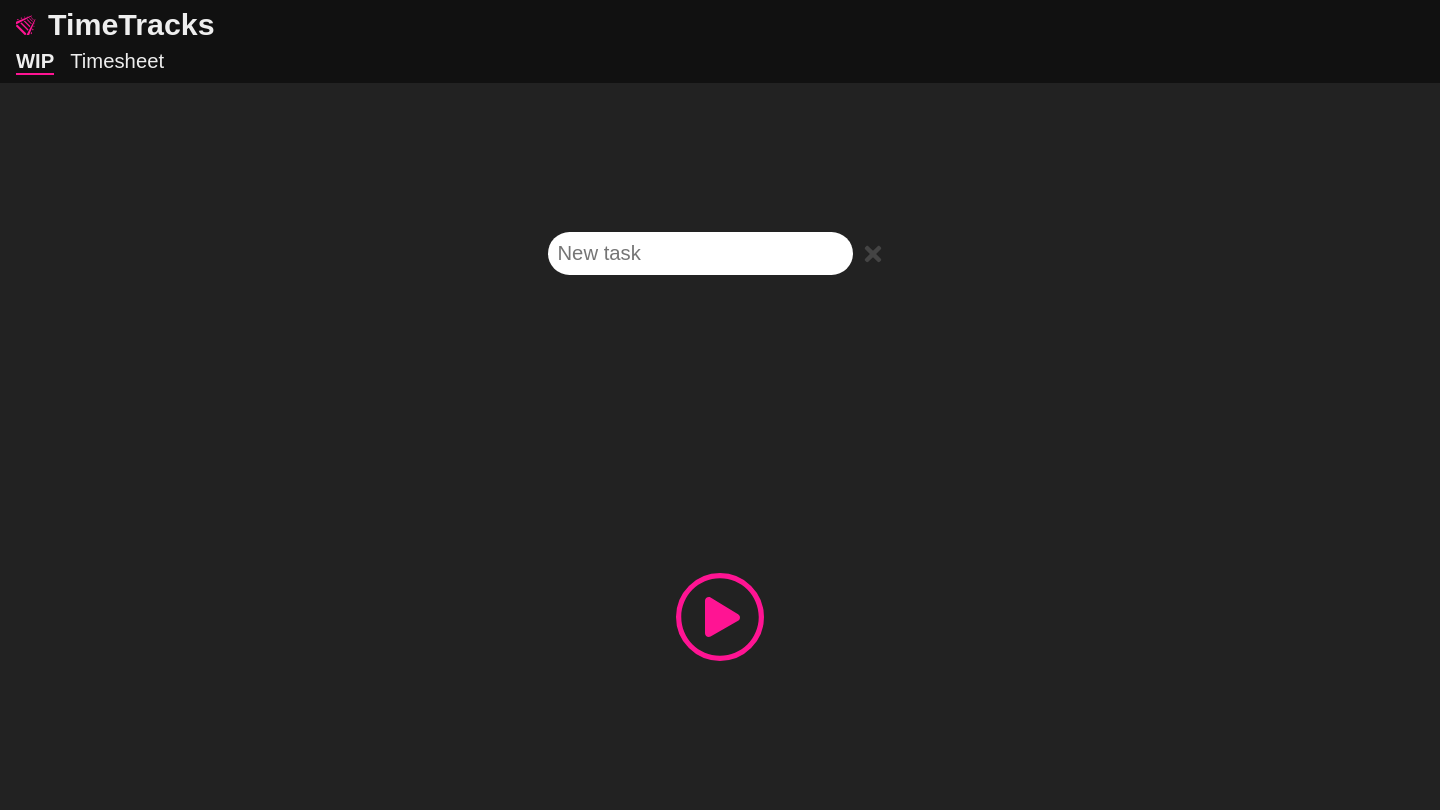
Test: after starting a task the stop button is visible
Type "My sweet task" into the field with test id "task-input". click: (700, 254)
box: [548,232,852,275]
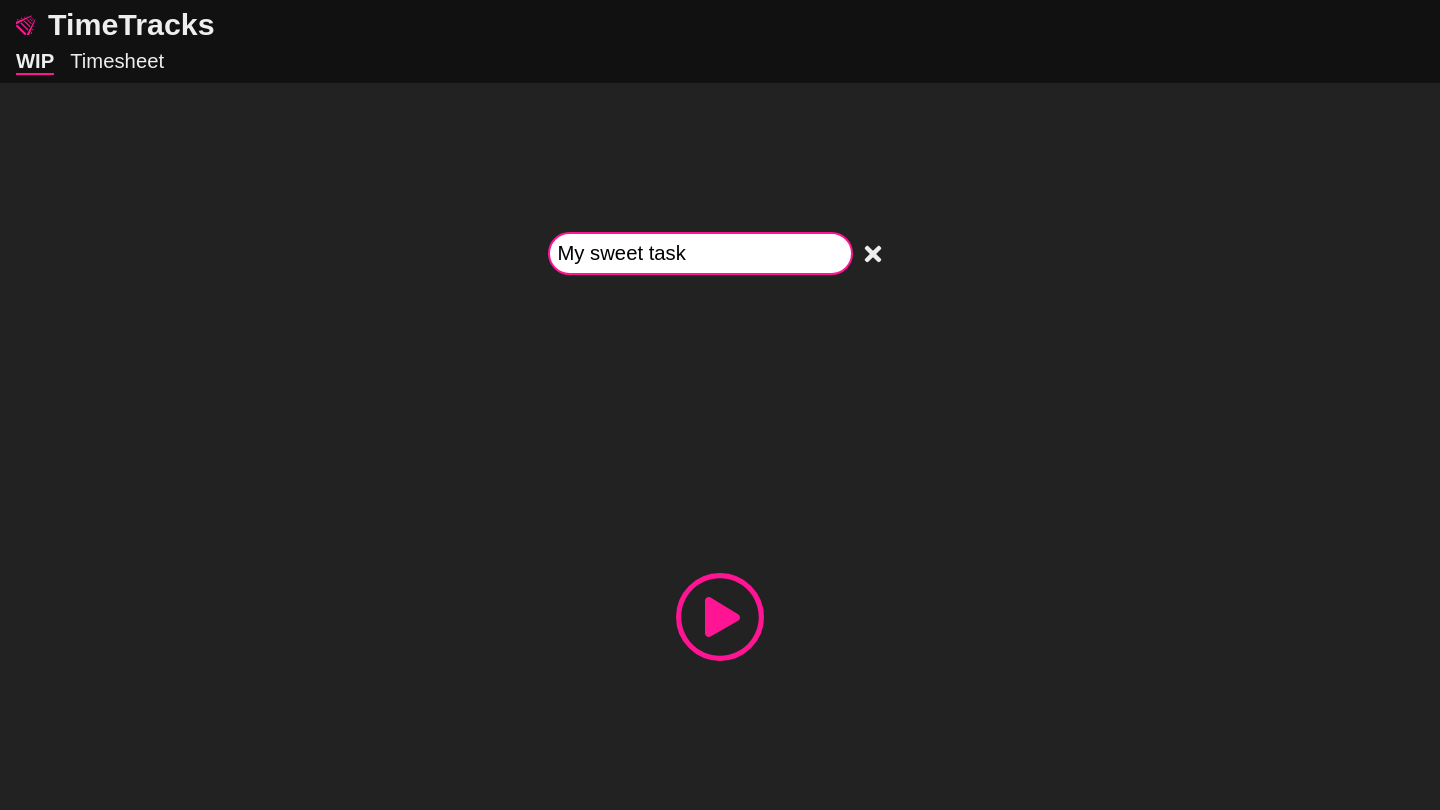
Click the button named "start". click: (720, 617)
box: [676,573,764,661]
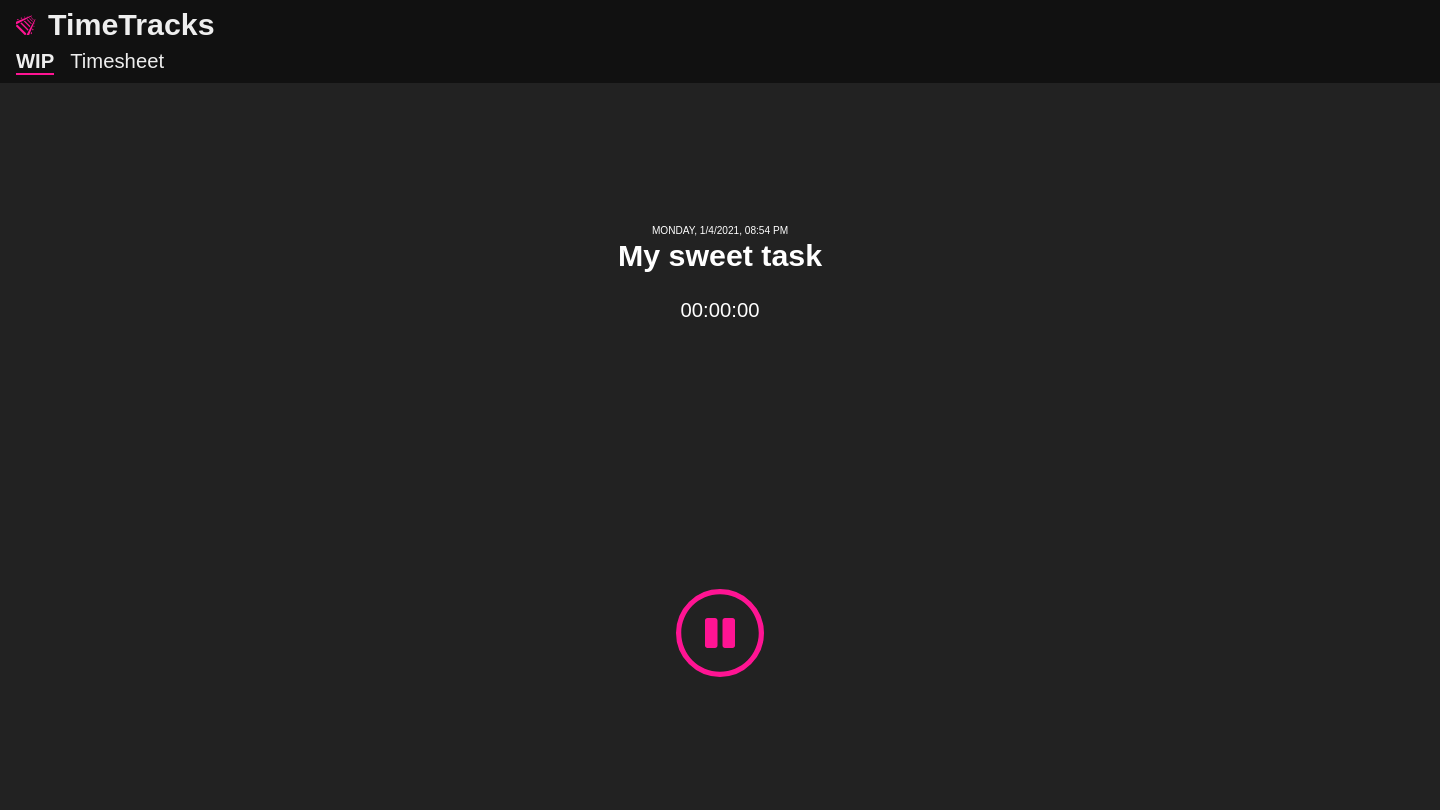
Check: the heading "My sweet task" is shown, box [618,239,822,273]
Check: the button named "pause" is shown, box [676,588,764,676]
